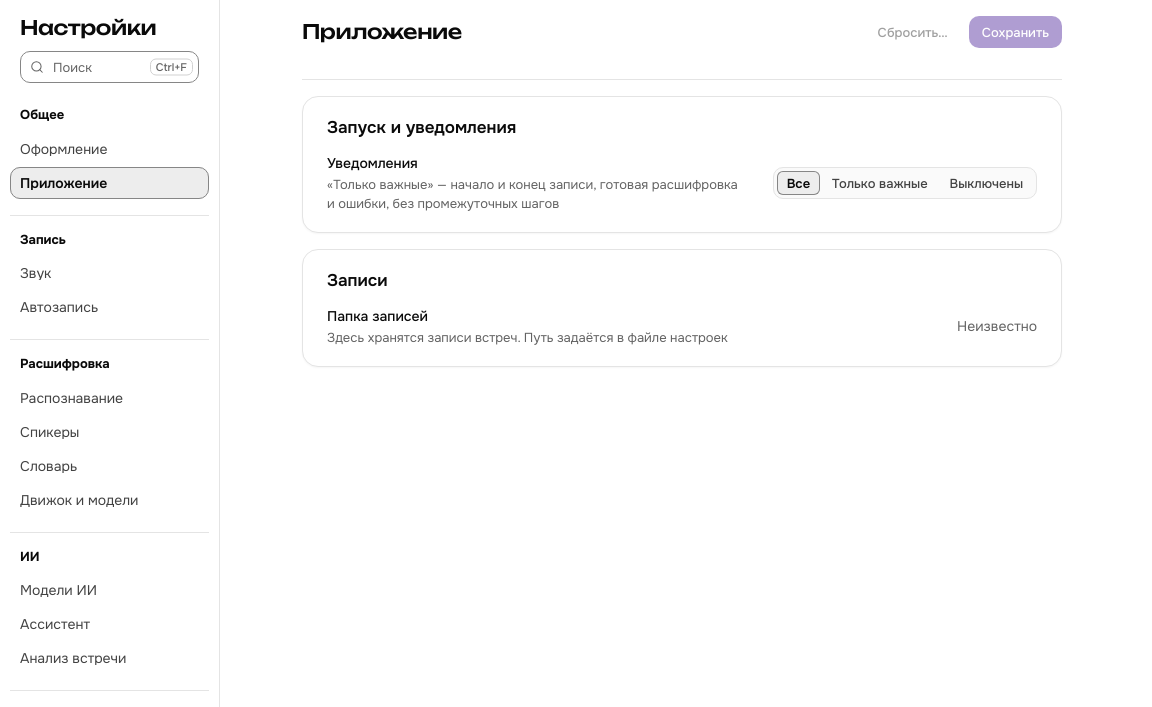
Test: Esc очищает поиск, меню возвращается
Check: the element named "Уведомления" is shown, box [773,167,1037,199]
Type "голос" into the dropdown named "Поиск по настройкам" at (110, 67), box [20,51,199,83]
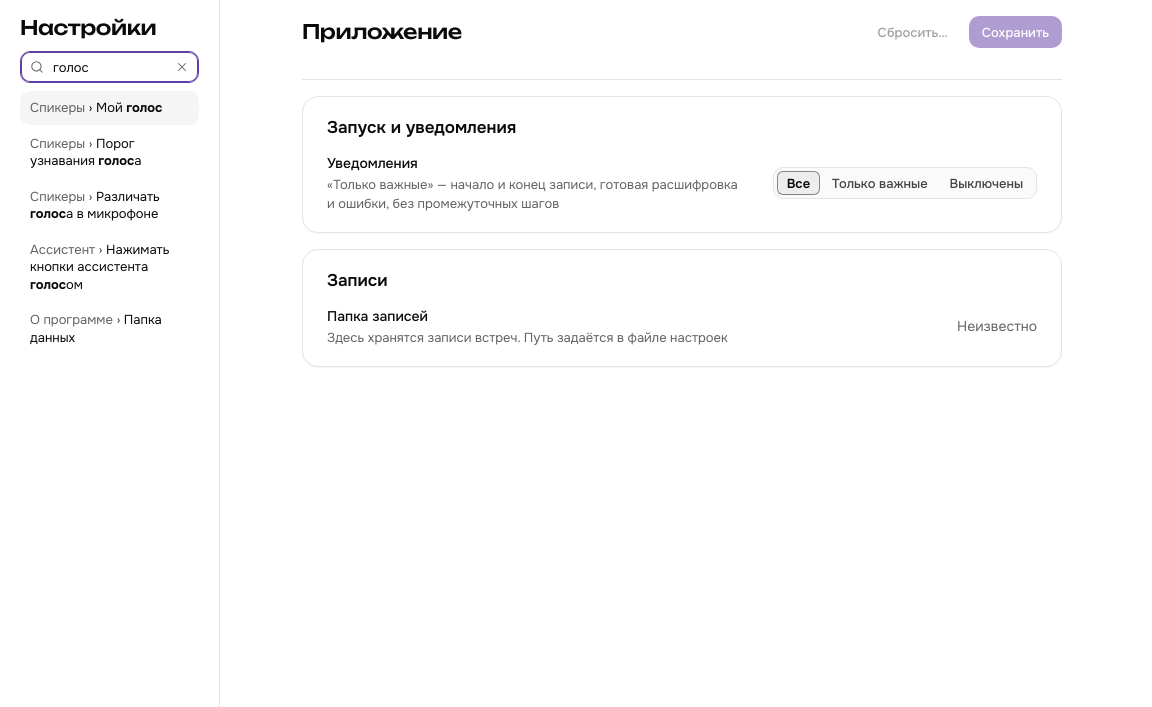
Check: the button "Звук" is gone
Press Escape
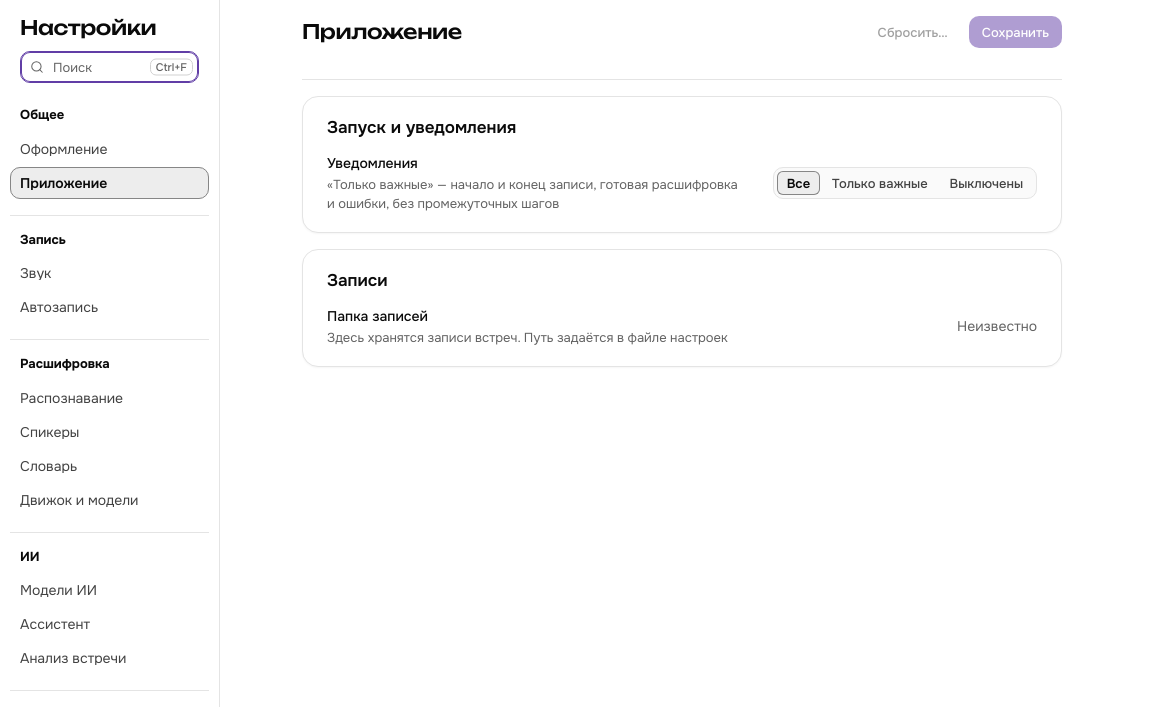
Check: the dropdown named "Поиск по настройкам" is empty, box [20,51,199,83]
Check: the button "Звук" is shown, box [10,257,209,289]
